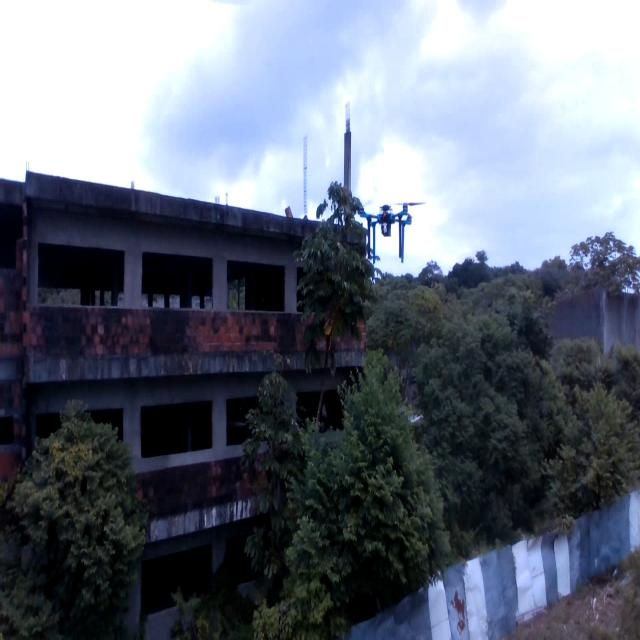-uav-: (344, 186, 432, 272)
